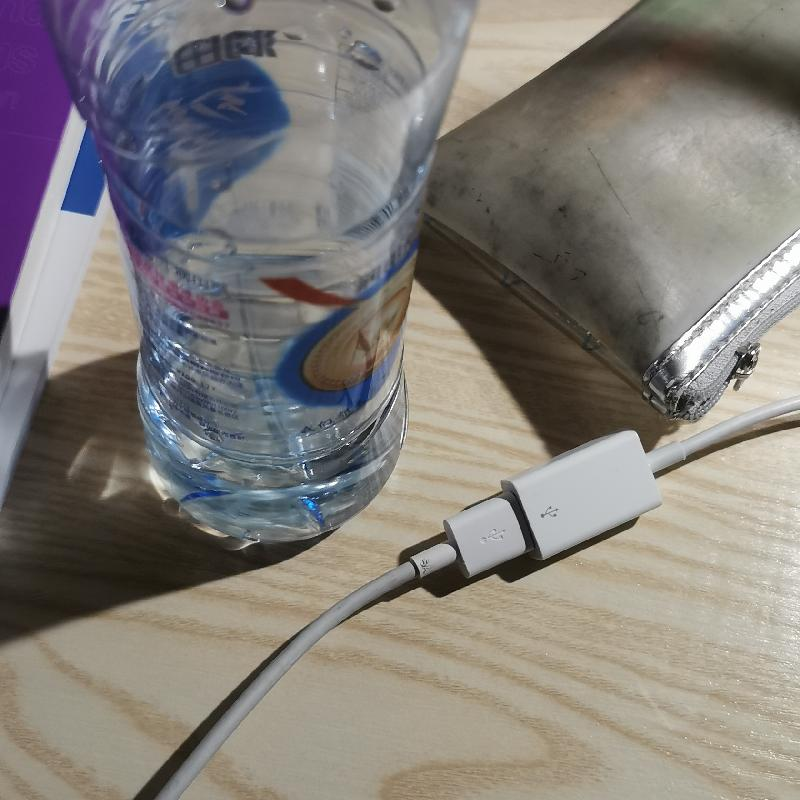bottles: (34, 0, 475, 550)
